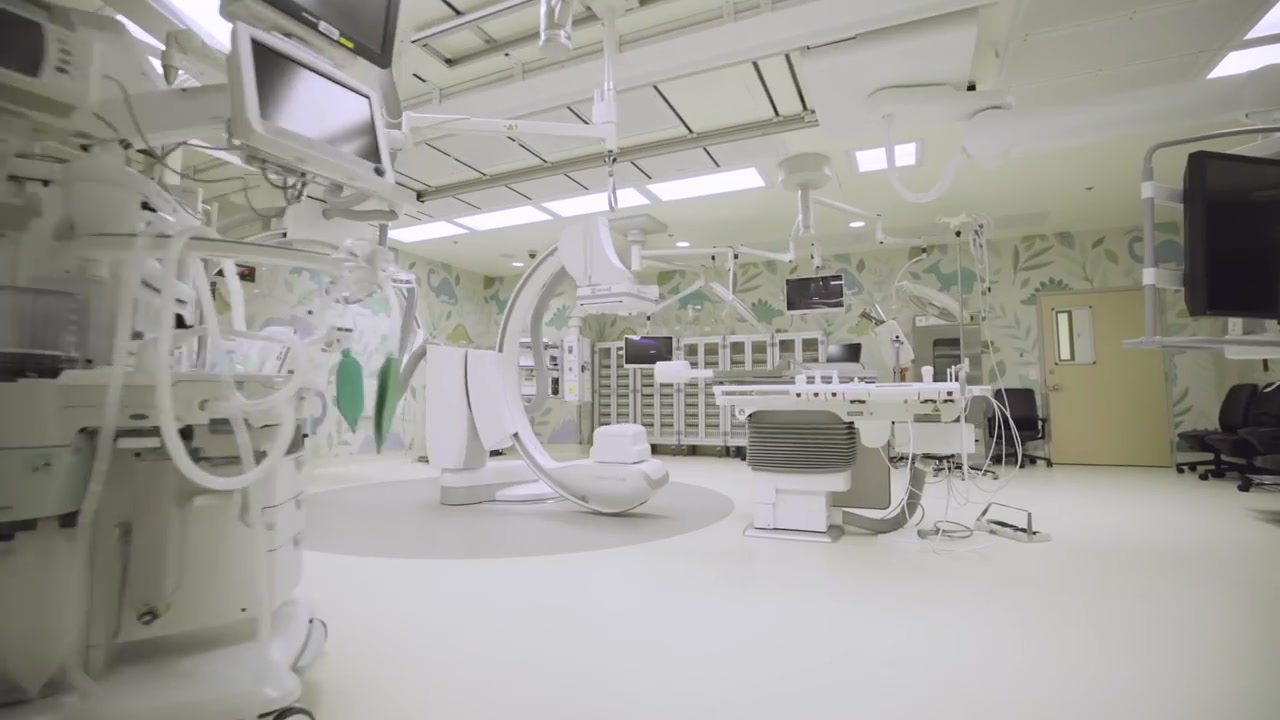TV: (1181, 150, 1280, 318), (784, 275, 846, 313), (622, 335, 673, 368)
bedside_monitor: (218, 1, 403, 68)
breathing_tube: (83, 216, 310, 545)
chair: (1204, 380, 1280, 492), (1176, 384, 1258, 481), (990, 387, 1053, 470)
door_handle: (1051, 383, 1062, 392)
exam_table: (709, 381, 990, 457)
medical_drawer: (684, 335, 732, 460), (638, 337, 686, 458), (598, 340, 642, 455), (781, 332, 838, 366), (731, 334, 782, 369)
surgical_light: (904, 282, 971, 326)
ventilator: (78, 207, 423, 703)
